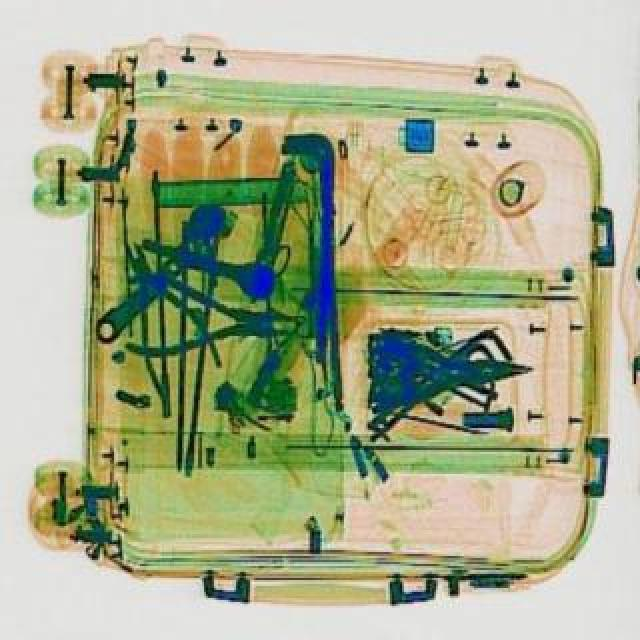wrench: (126, 272, 298, 360), (372, 334, 536, 402)
